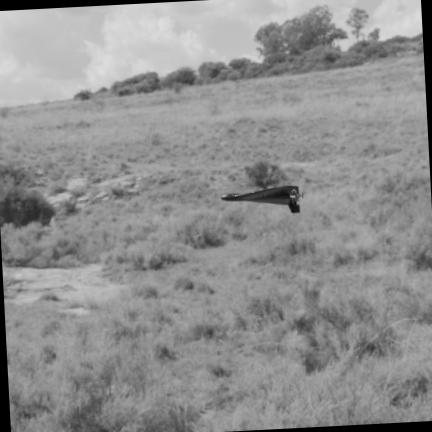Shahed: (222, 185, 303, 213)
